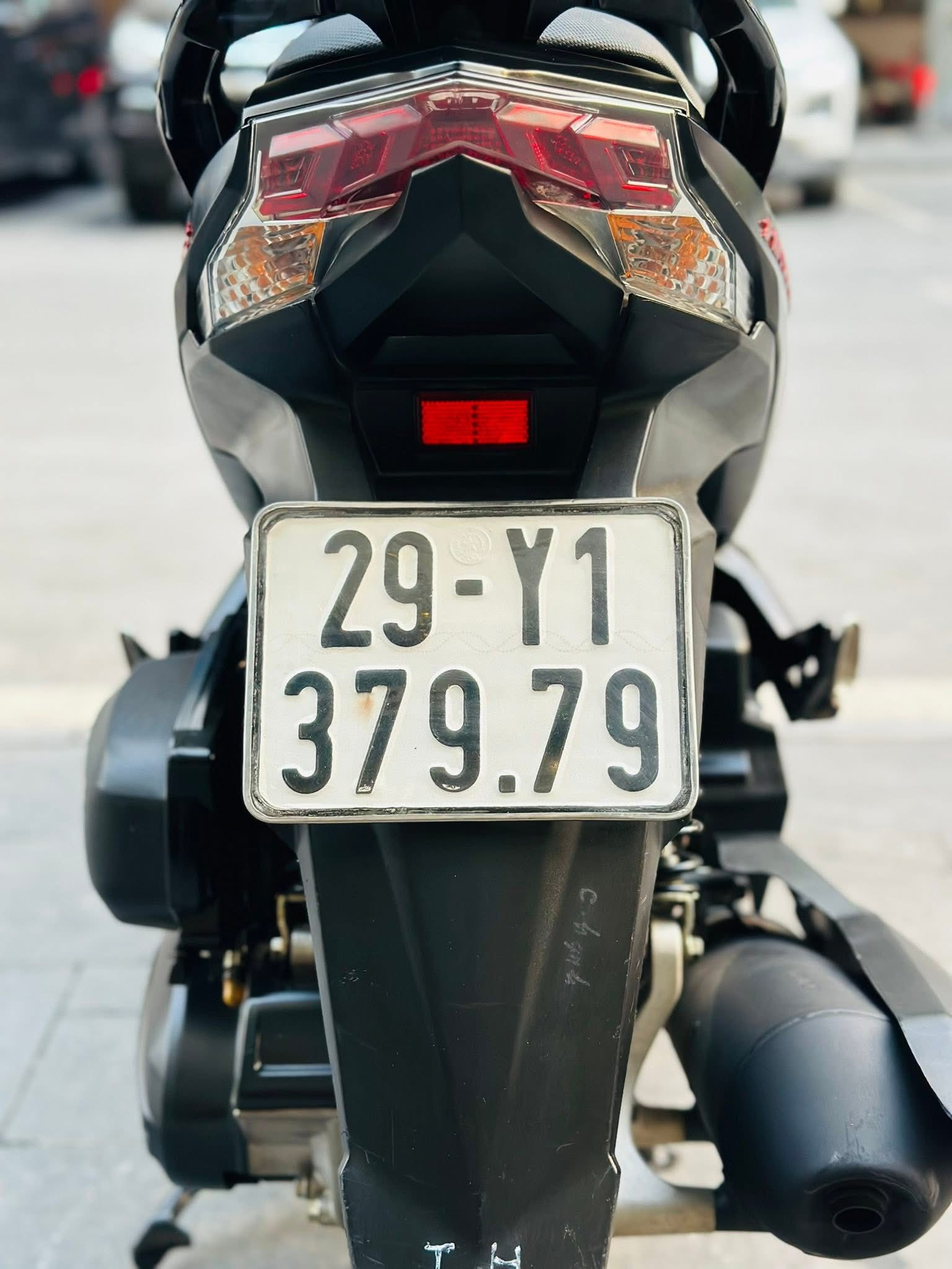bien_so: (235, 490, 707, 838)
